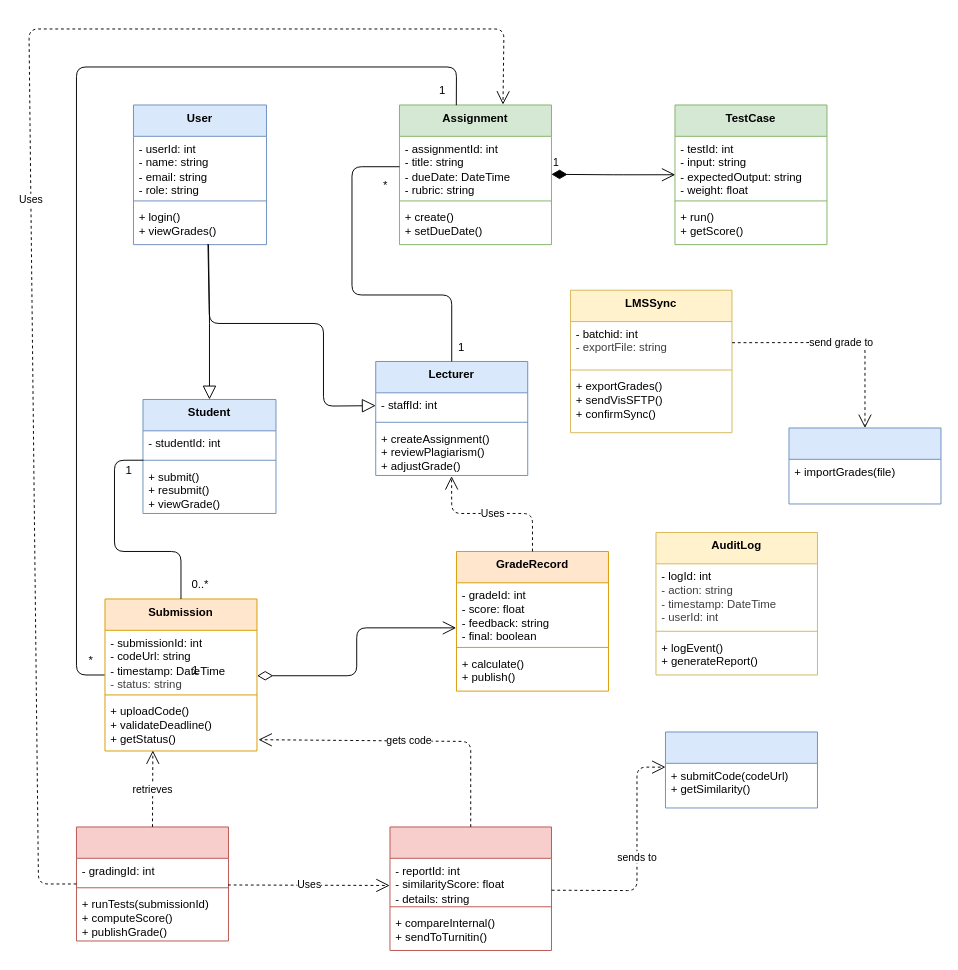
The diagram is 958 pixels wide and 970 high, and some of its shapes have lost their labels. Here are the shapes that lost their labels. From the top down, the box of each, then its label:
(788, 427, 941, 504): LMS
(665, 731, 817, 808): TurnitinAPI
(76, 826, 228, 941): GradingService
(389, 826, 551, 950): PlagiarismService
